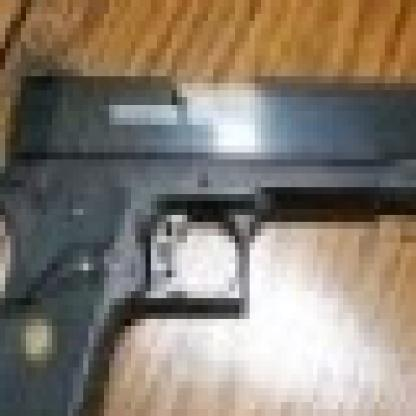gun: (0, 56, 411, 409)
